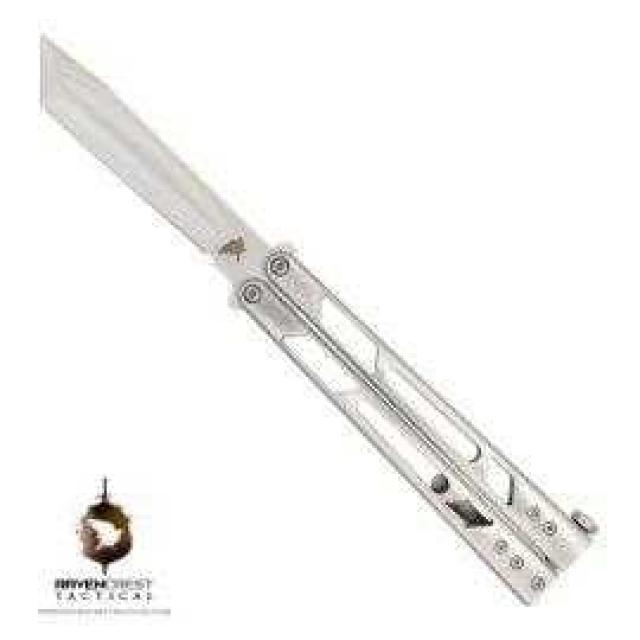Knife: (19, 21, 640, 640)
